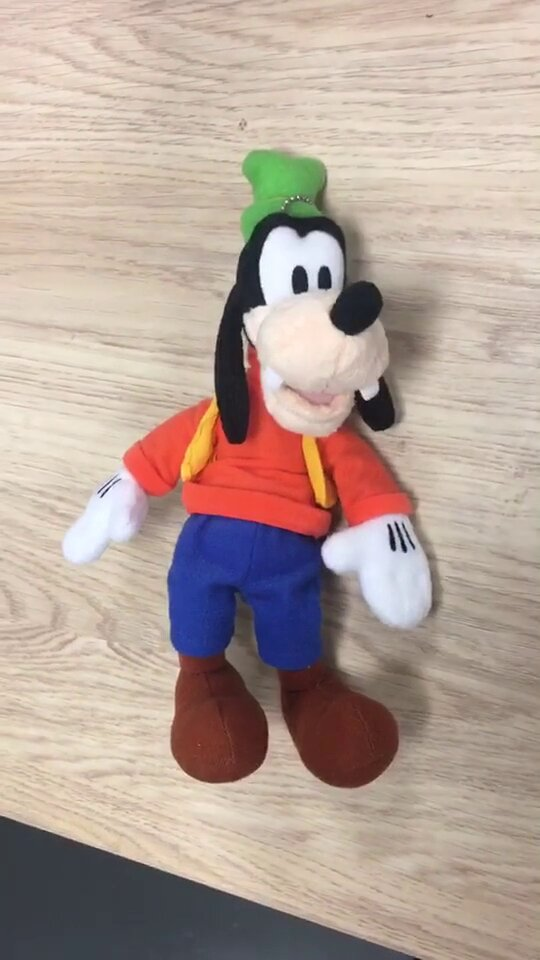goofy: (61, 145, 443, 796)
